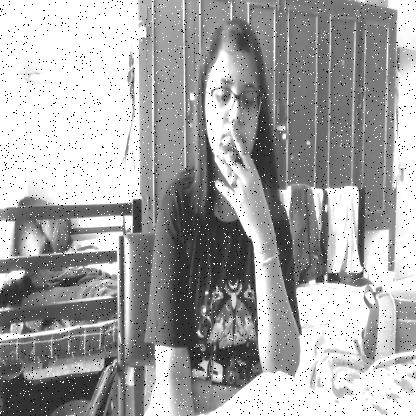Normal: (199, 22, 265, 180)
